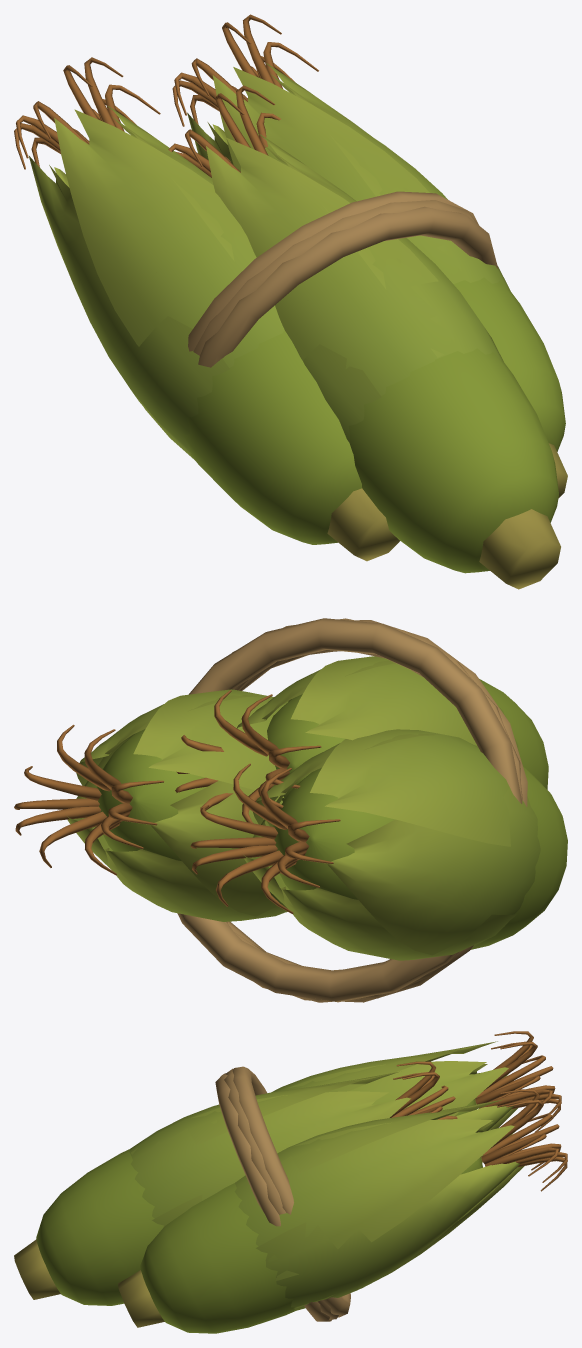
File: corn_bundle.glb
3 renders of one model, top to bottom at view 1: azimuth 30°, elevation 25°; view 2: azimuth 150°, elevation 25°; view 3: azimuth 270°, elevation 25°, orthographic. The views are drawn at different scales.
Parts seen in each view (by area): view 1: Plant; view 2: Plant; view 3: Plant.
Part boxes in pixels (x1,y1,x2,y2): Plant: (14,14,567,589); Plant: (14,618,567,1002); Plant: (14,1031,567,1333).
Bounding box in the file's own units: 0.1959 × 0.1745 × 0.3626.
